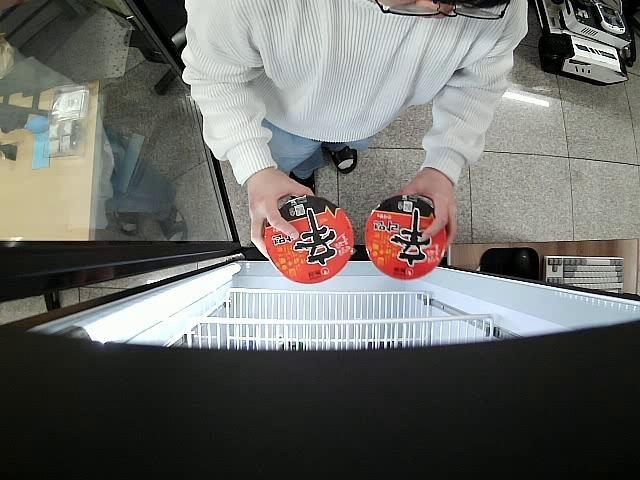01_ShinRamen_L: (264, 194, 356, 285), (364, 194, 450, 283)
